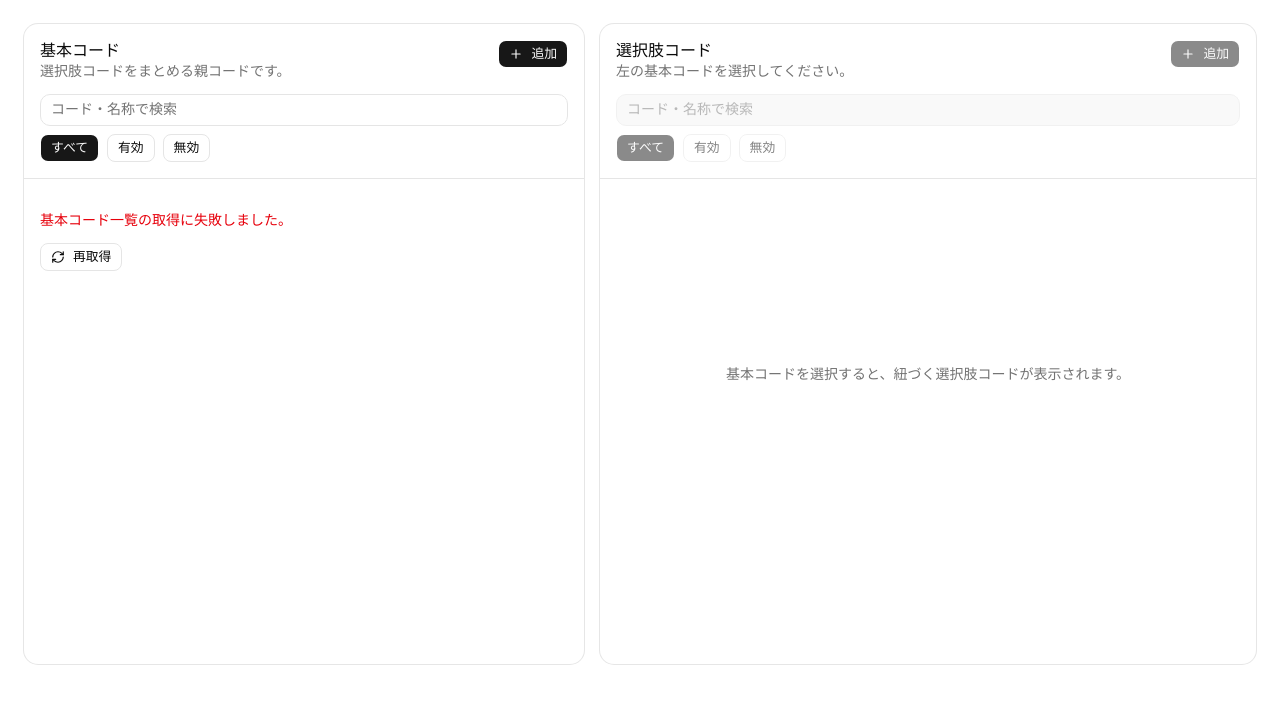
Test case: StandardCodeMasterPage › 基本コード一覧の再取得に成功すると、一覧を表示する
Expected: the text "基本コード一覧の取得に失敗しました。" is shown, [40,213,292,228]
What coordinates should you click on to do the following:
click the button "再取得"
I would click on:
 (81, 257)
Its box is [40,243,122,271].
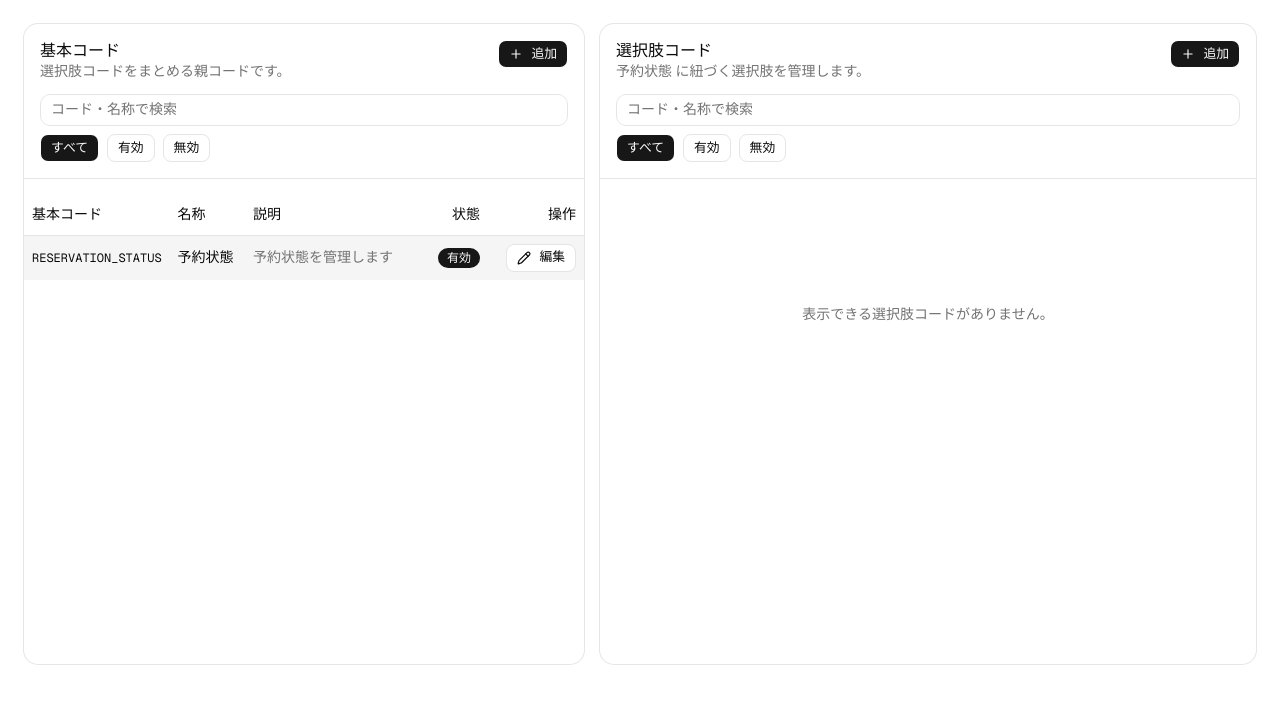
Expected: the text "予約状態" is shown, [178,248,237,268]
